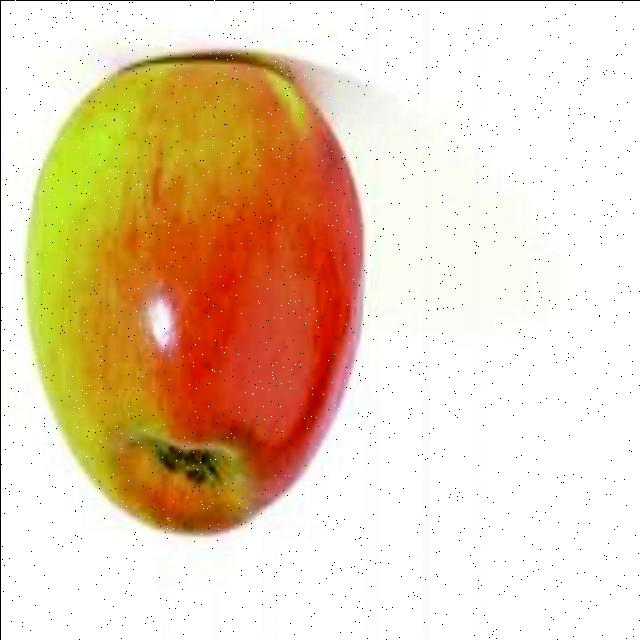HEALTHY: (14, 47, 384, 557)
